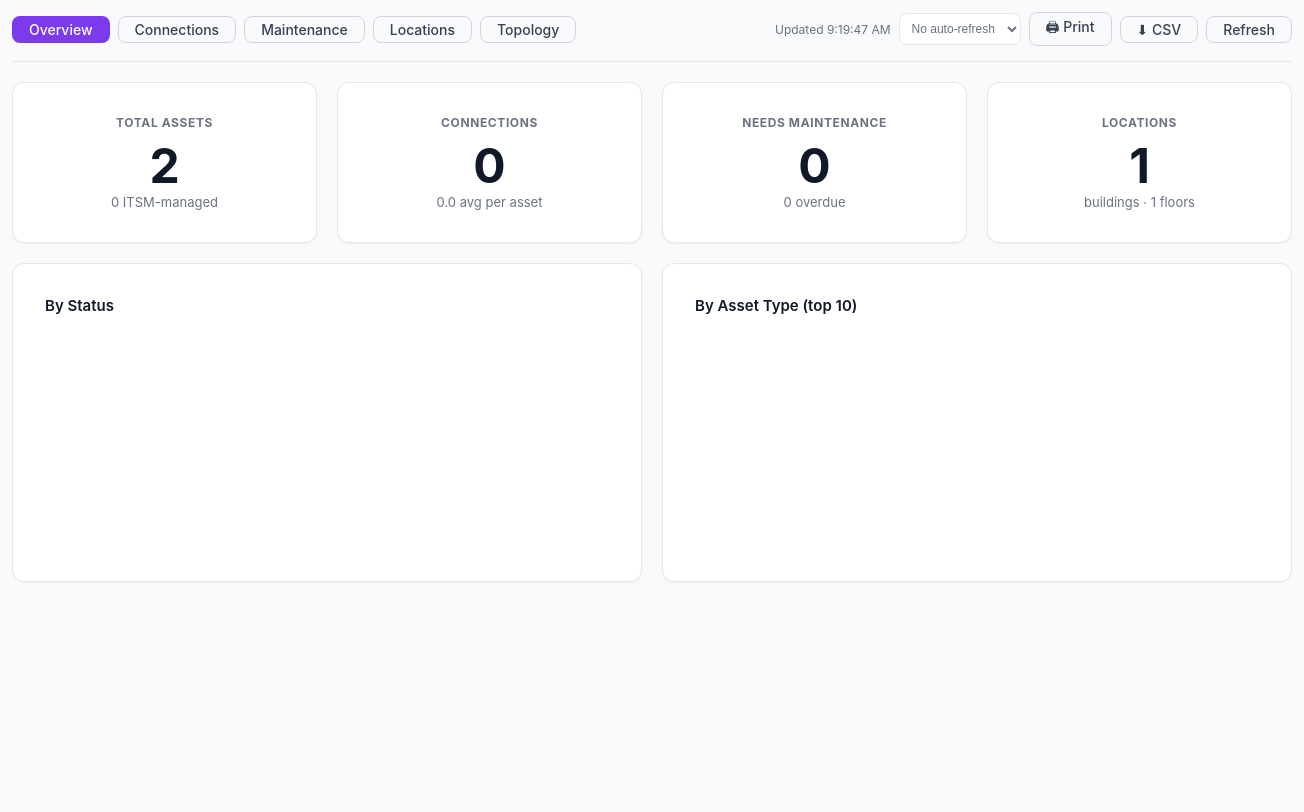
Test case: AssetReports â€” tabs › clicking Topology tab shows isolated toggle button
Expected: the heading "Total Assets" is shown, [116,115,213,130]
Click the button "Topology".
click(528, 29)  # box [480,16,576,42]
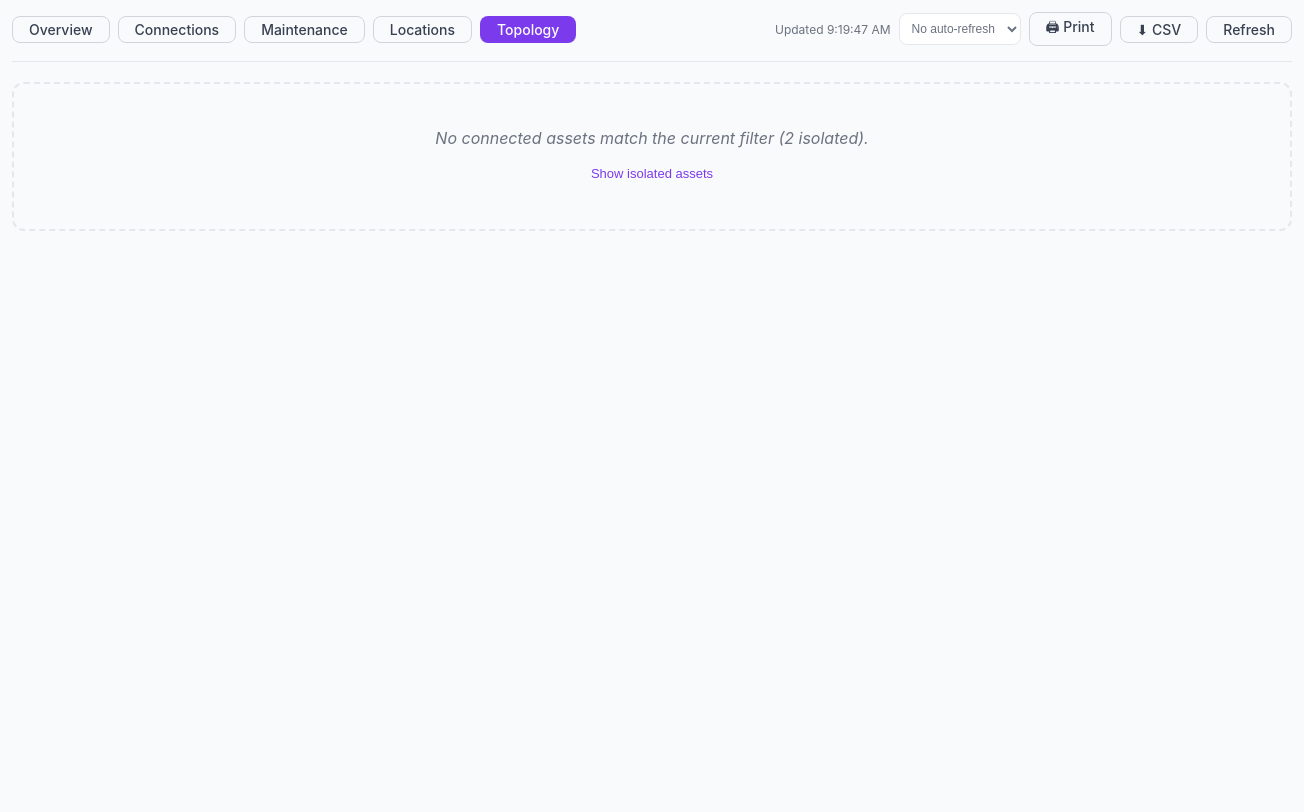
Expected: the button "Show isolated assets" is shown, [34,158,1270,189]
